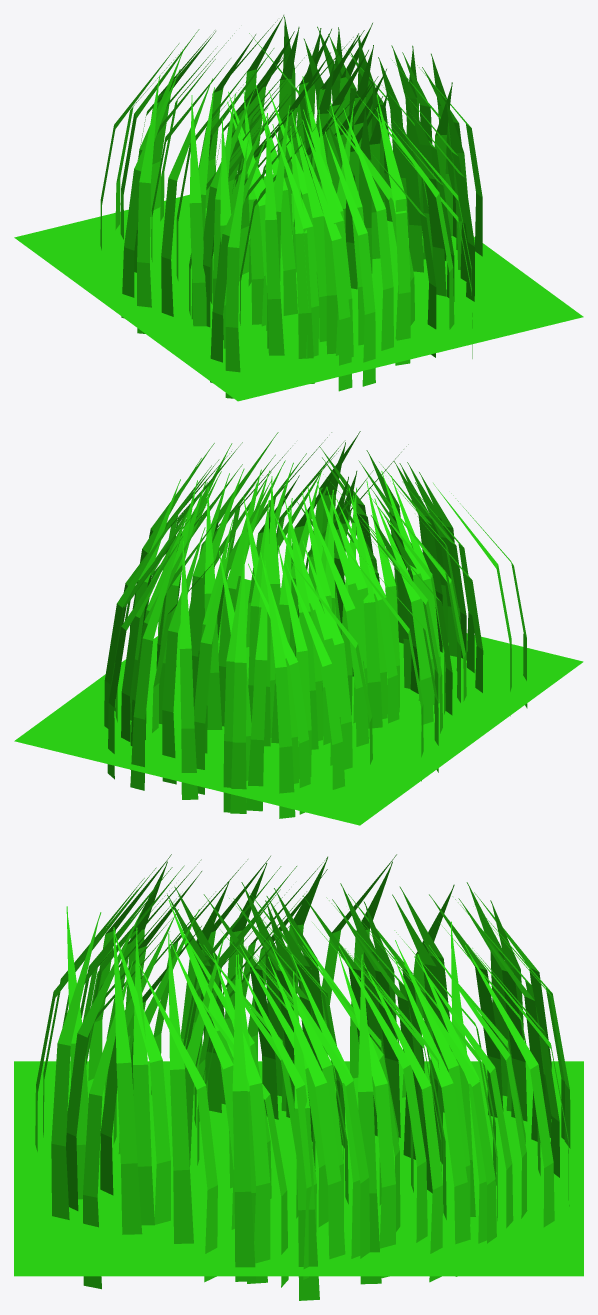
File: Grass_WithOneMat.fbx
3 renders of one model, top to bottom at view 1: azimuth 30°, elevation 25°; view 2: azimuth 150°, elevation 25°; view 3: azimuth 270°, elevation 25°, orthographic. The views are drawn at different scales.
Parts seen in each view (by area): view 1: Plane; view 2: Plane; view 3: Plane.
Part boxes in pixels (bbox=[...]): Plane: bbox=[14, 15, 583, 401]; Plane: bbox=[14, 431, 583, 825]; Plane: bbox=[14, 854, 583, 1300].
Size of the model in its own units: 321 by 234 by 360.
